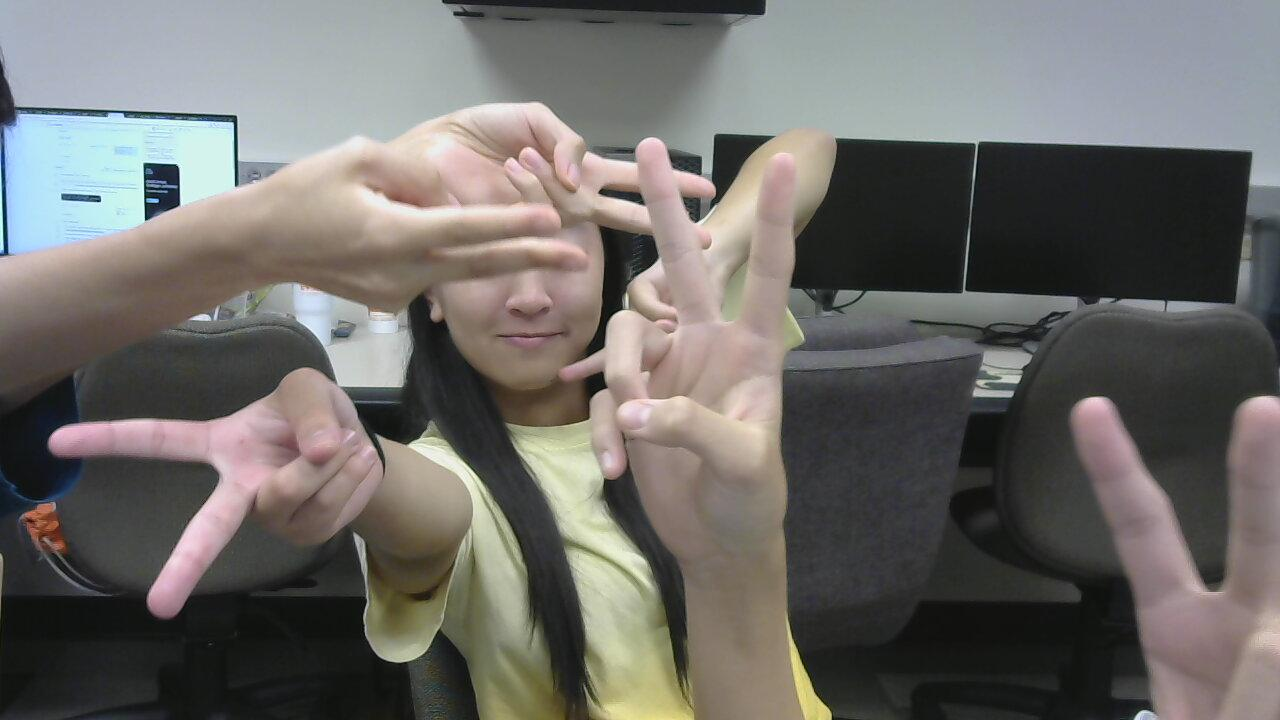peace: (607, 142, 839, 537), (391, 42, 739, 272), (1049, 387, 1280, 720), (42, 395, 394, 607), (264, 123, 590, 297)
